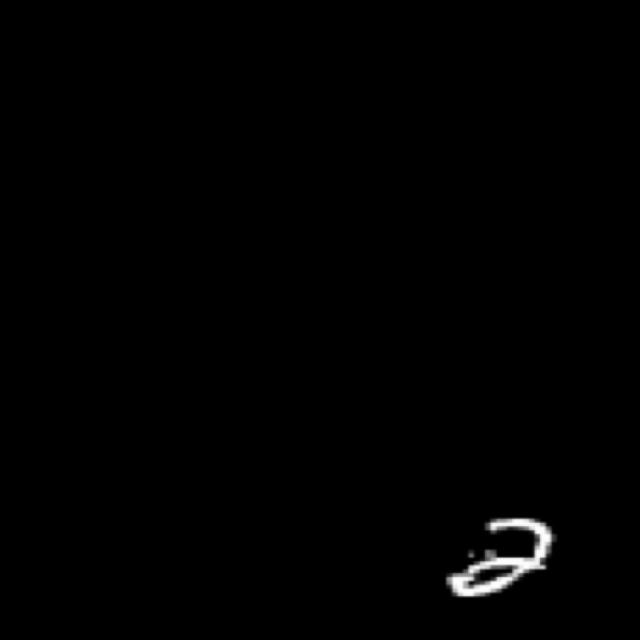two -2-: (439, 510, 569, 614)
